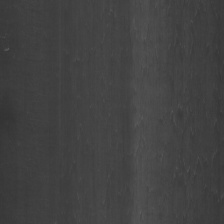silk_spot: (170, 80, 213, 140), (164, 148, 217, 195), (171, 7, 203, 62), (129, 16, 156, 66), (132, 114, 151, 151)
